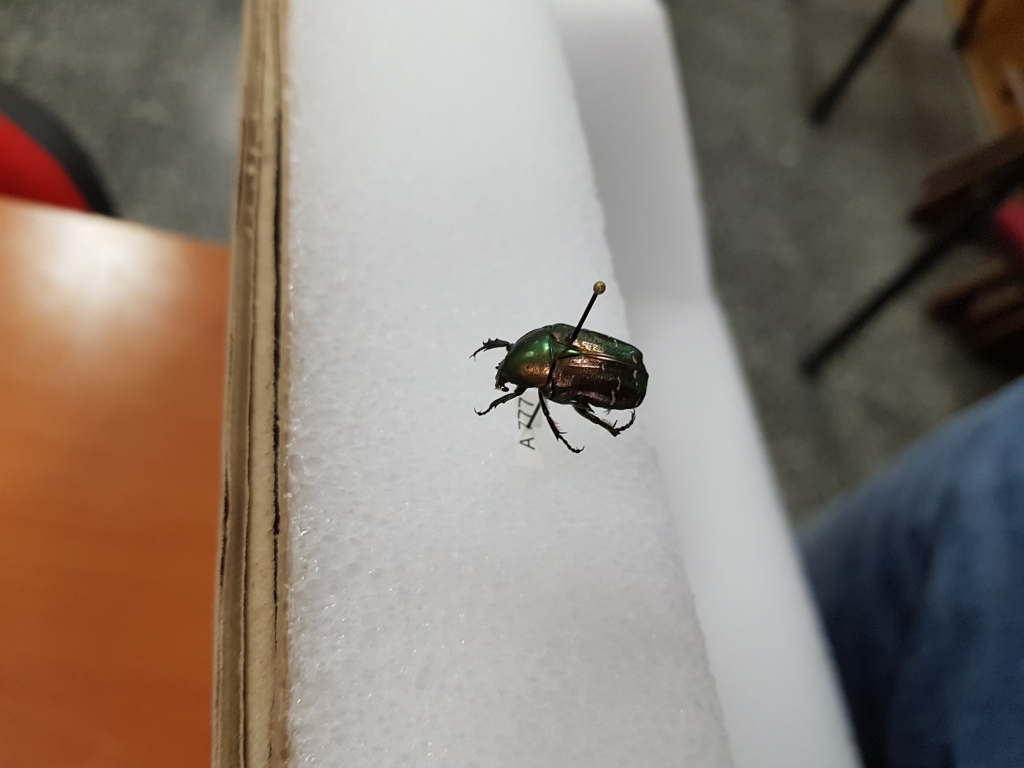Cetonia_aurata: (465, 317, 650, 452)
